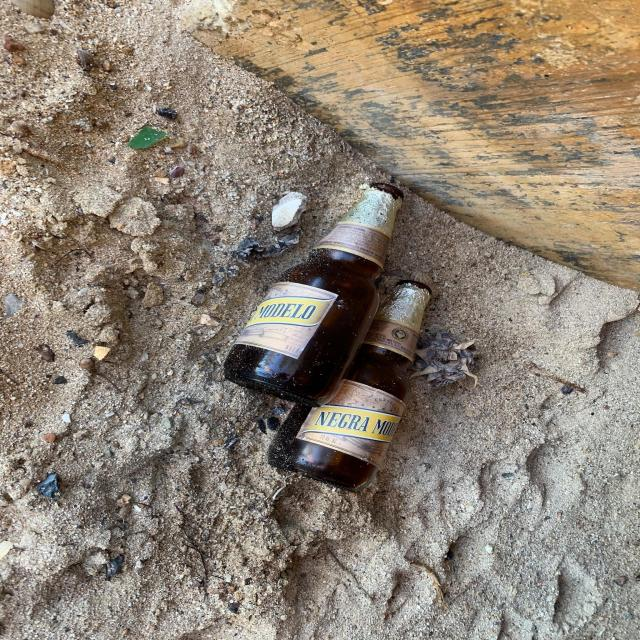litter: (223, 183, 403, 407), (268, 279, 432, 493)
